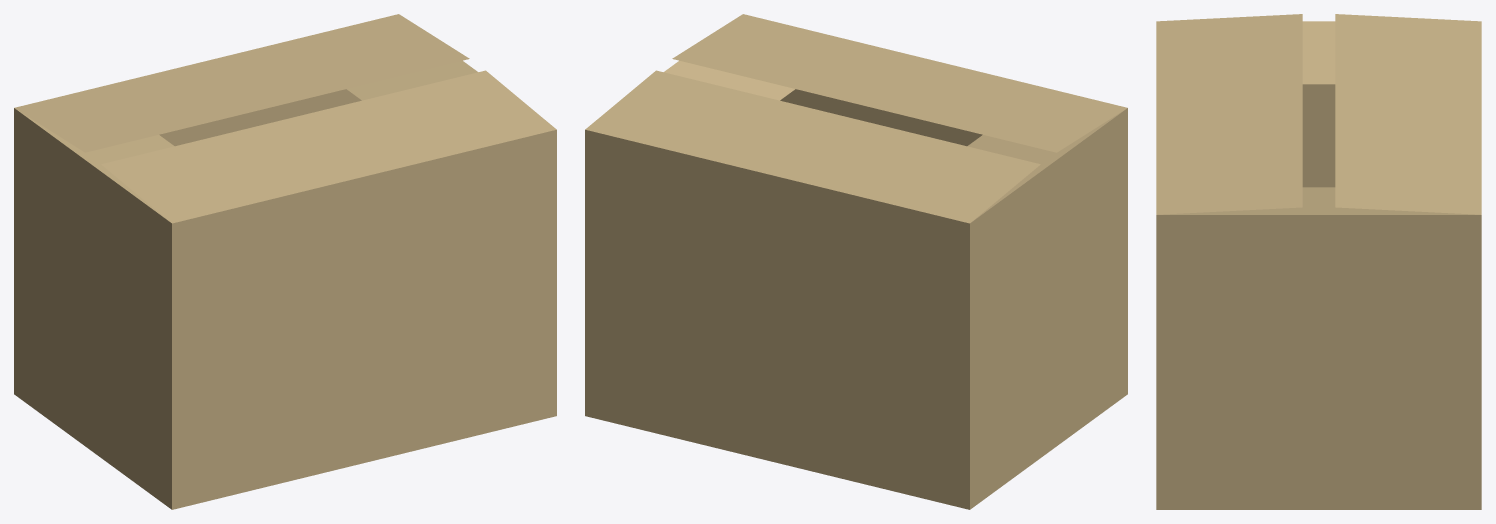
File: box_closed.glb
3 views of the same model, side by side, from view 1: azimuth 30°, elevation 25°; view 2: azimuth 150°, elevation 25°; view 3: azimuth 270°, elevation 25° (orthographic). The views are drawn at different scales.
Visible parts, largest first — view 1: box; view 2: box; view 3: box.
Part boxes in pixels (x1,y1,x2,y2): box: (14, 14, 556, 509); box: (585, 14, 1127, 509); box: (1156, 14, 1481, 509).
Size of the model in its own units: 2.81 by 2.05 by 2.
